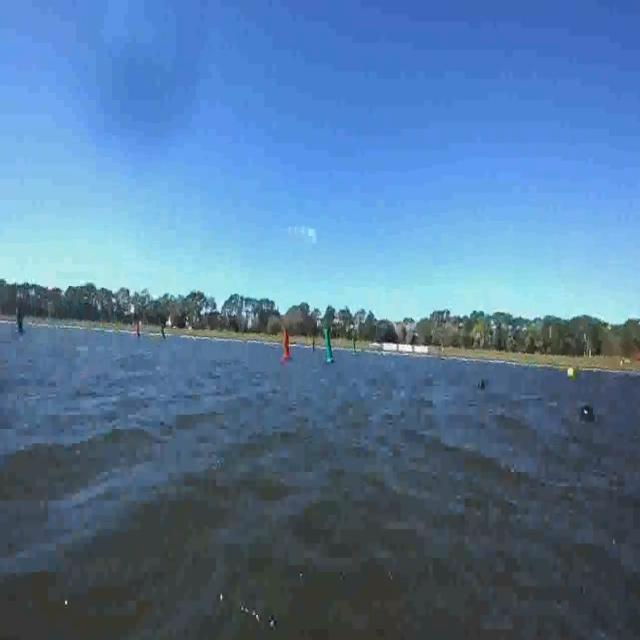black-buoy: (581, 402, 596, 424), (476, 370, 486, 390)
green-column-buoy: (12, 300, 26, 338), (325, 328, 338, 366), (351, 333, 358, 357), (161, 320, 169, 340)
red-column-buoy: (282, 326, 293, 359), (135, 320, 143, 342)
yellow-buoy: (566, 364, 577, 381)
